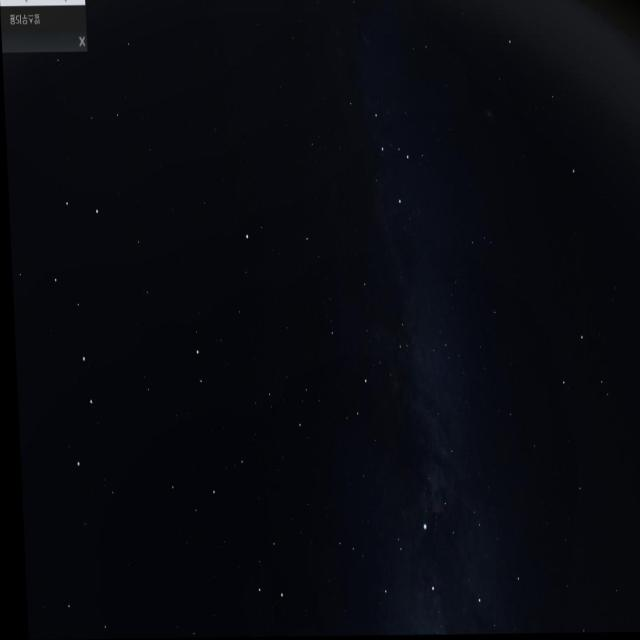cassiopeia: (338, 100, 432, 212)
cygnus: (368, 499, 484, 636)
ursa_major: (35, 192, 120, 474)
